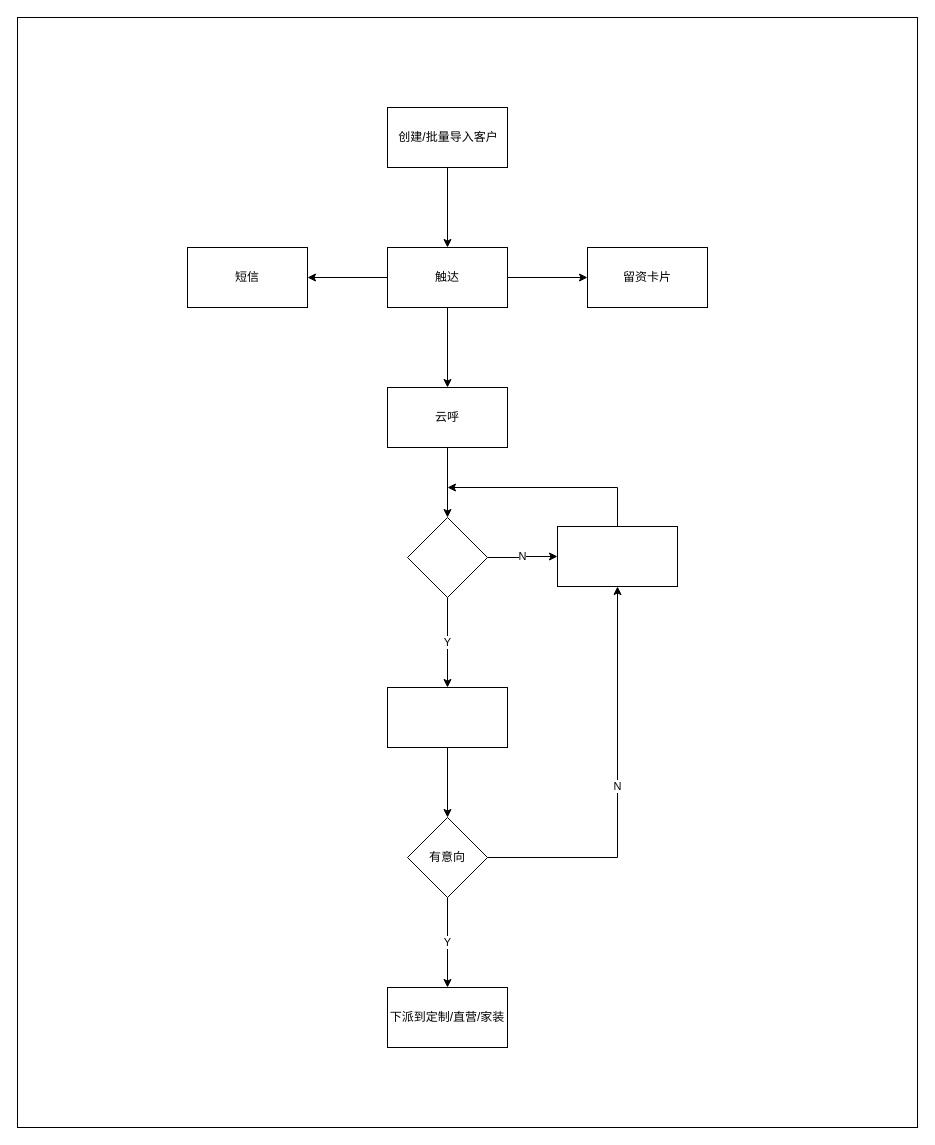
Image size: 935x1145. Some labels were removed from this diagram. Here are the shapes that lost their labels. From the top down, the centre of each, then its label:
At [447,557]: "接通".
At [617,556]: "待办列表".
At [447,717]: "房屋档案及用户信息维护".
